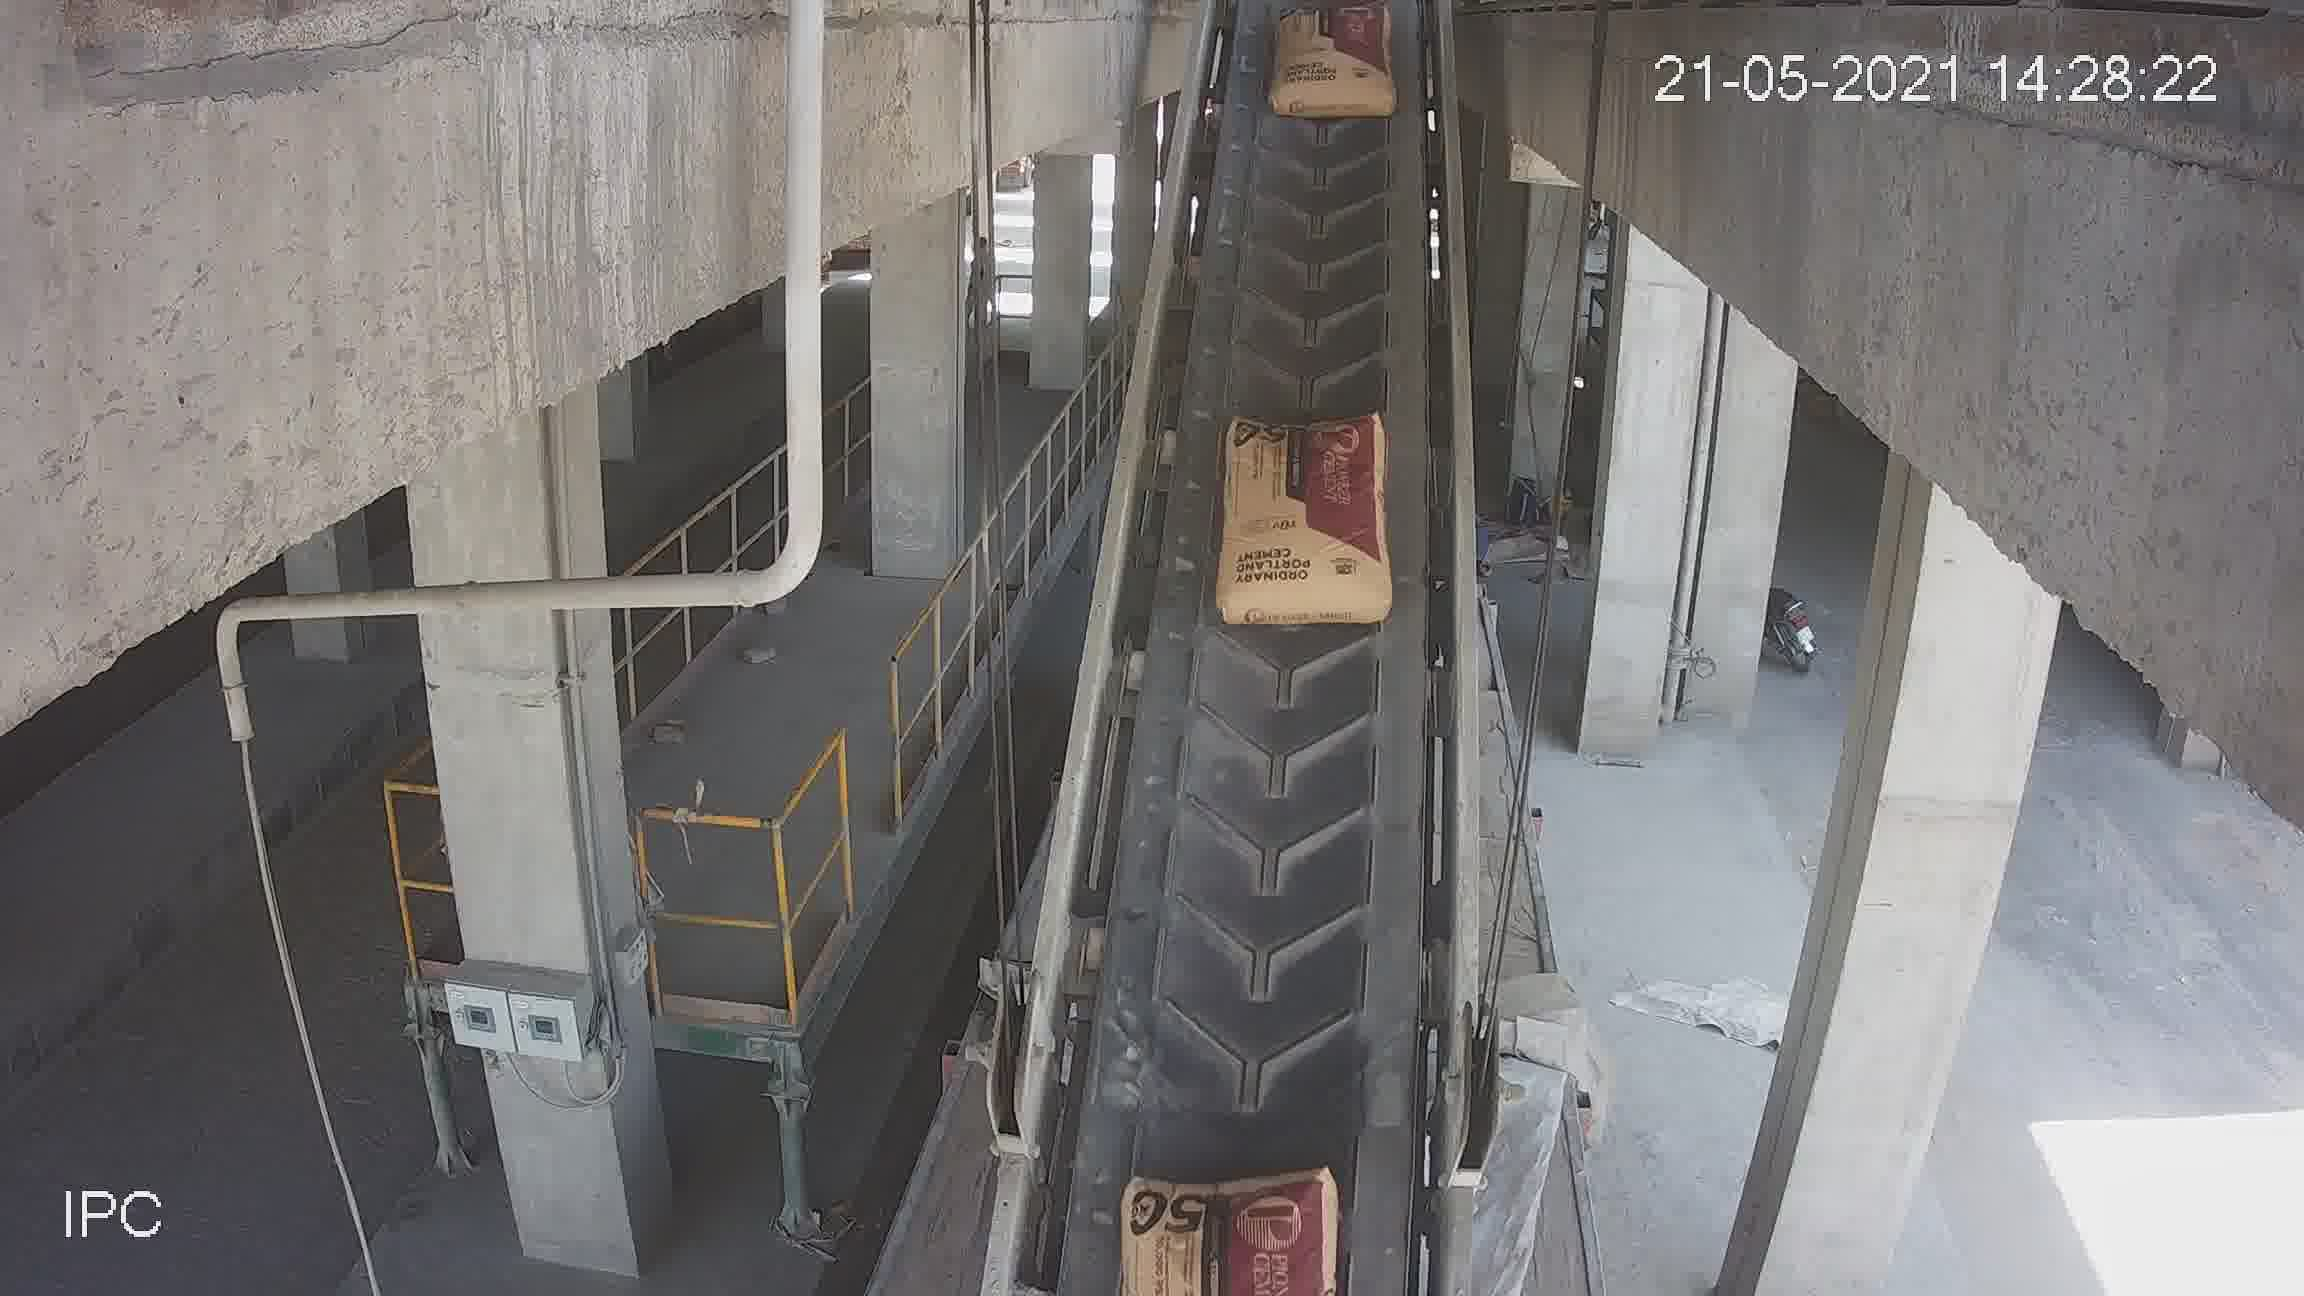bag: (1226, 415, 1389, 639), (1124, 1169, 1329, 1282), (1271, 16, 1381, 106)
belt: (1032, 6, 1506, 1260)
